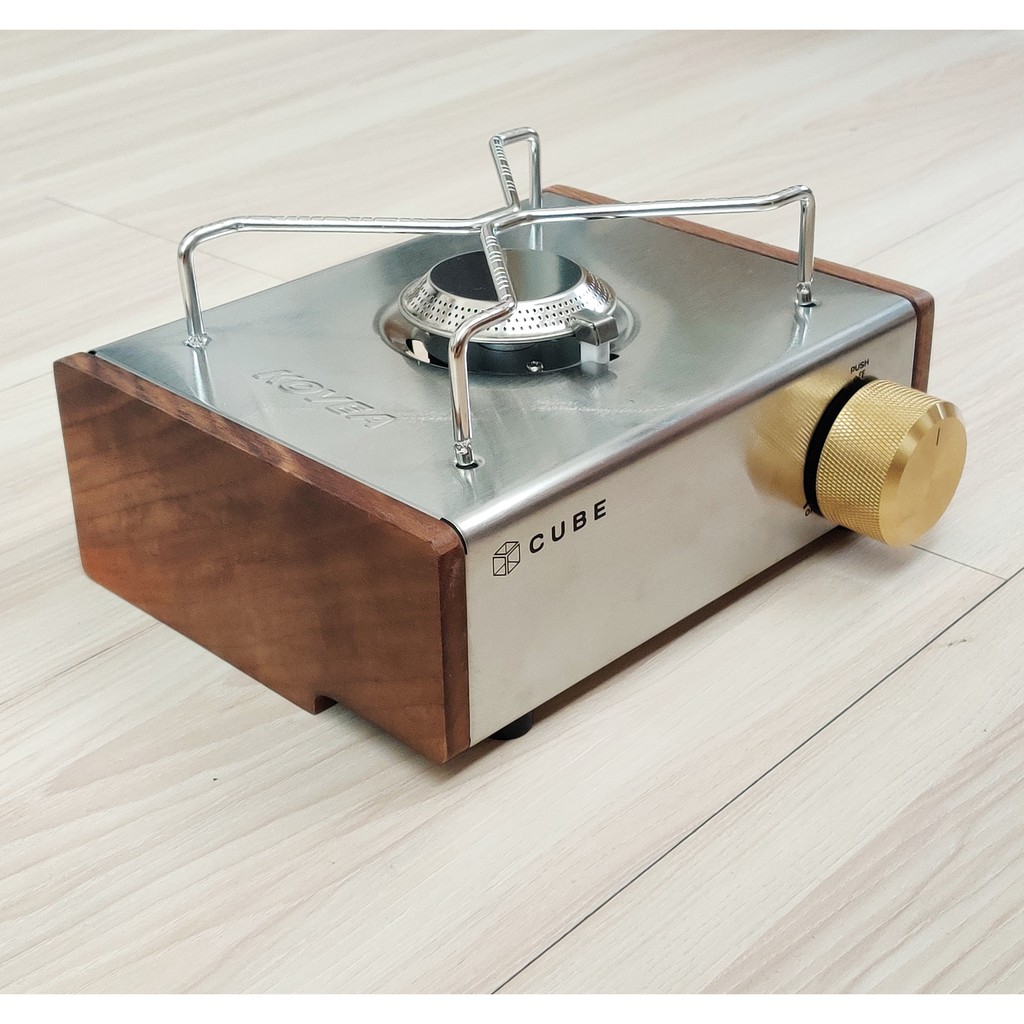gasoven: (46, 117, 981, 773)
